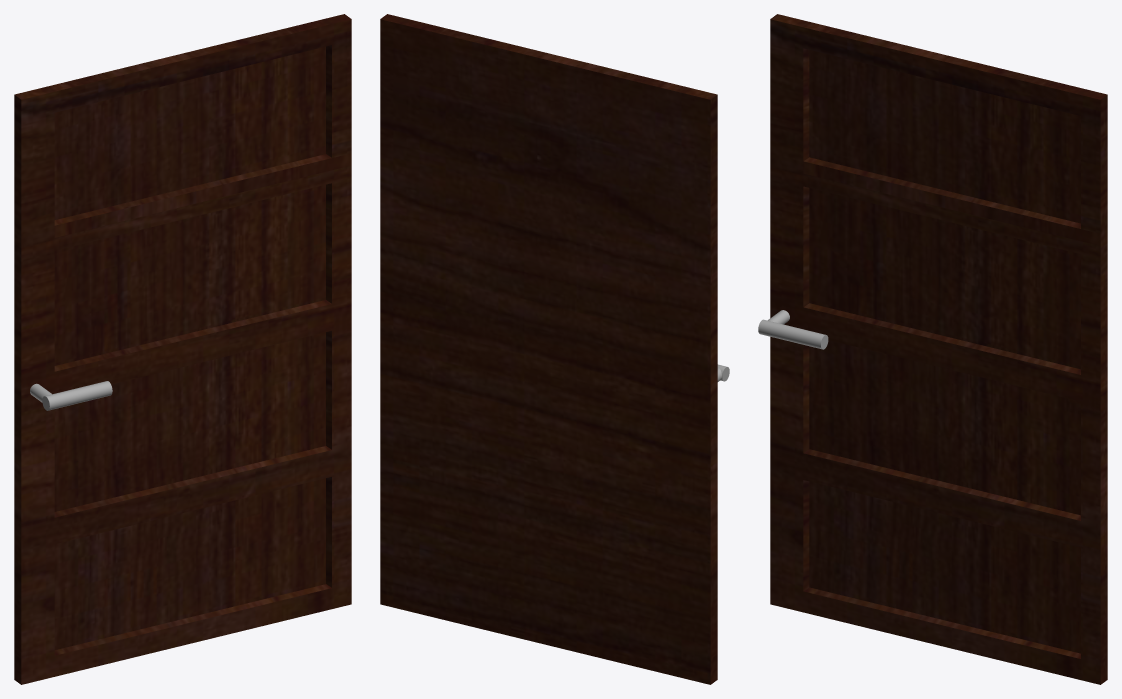
File: deur_completenew.fbx
3 renders of one model, left to right at view 1: azimuth 30°, elevation 25°; view 2: azimuth 150°, elevation 25°; view 3: azimuth 330°, elevation 25°, orthographic.
Parts seen in each view (by area): view 1: polySurface5; view 2: polySurface5; view 3: polySurface5.
Boxes of the visible parts, x1,y1,x2,y2 form: polySurface5: [14, 14, 351, 684]; polySurface5: [380, 14, 729, 684]; polySurface5: [758, 14, 1107, 684].
Bounding box in the file's own units: 5.31 × 8.98 × 0.7629.
Materials: 2 (1 with a texture image).
